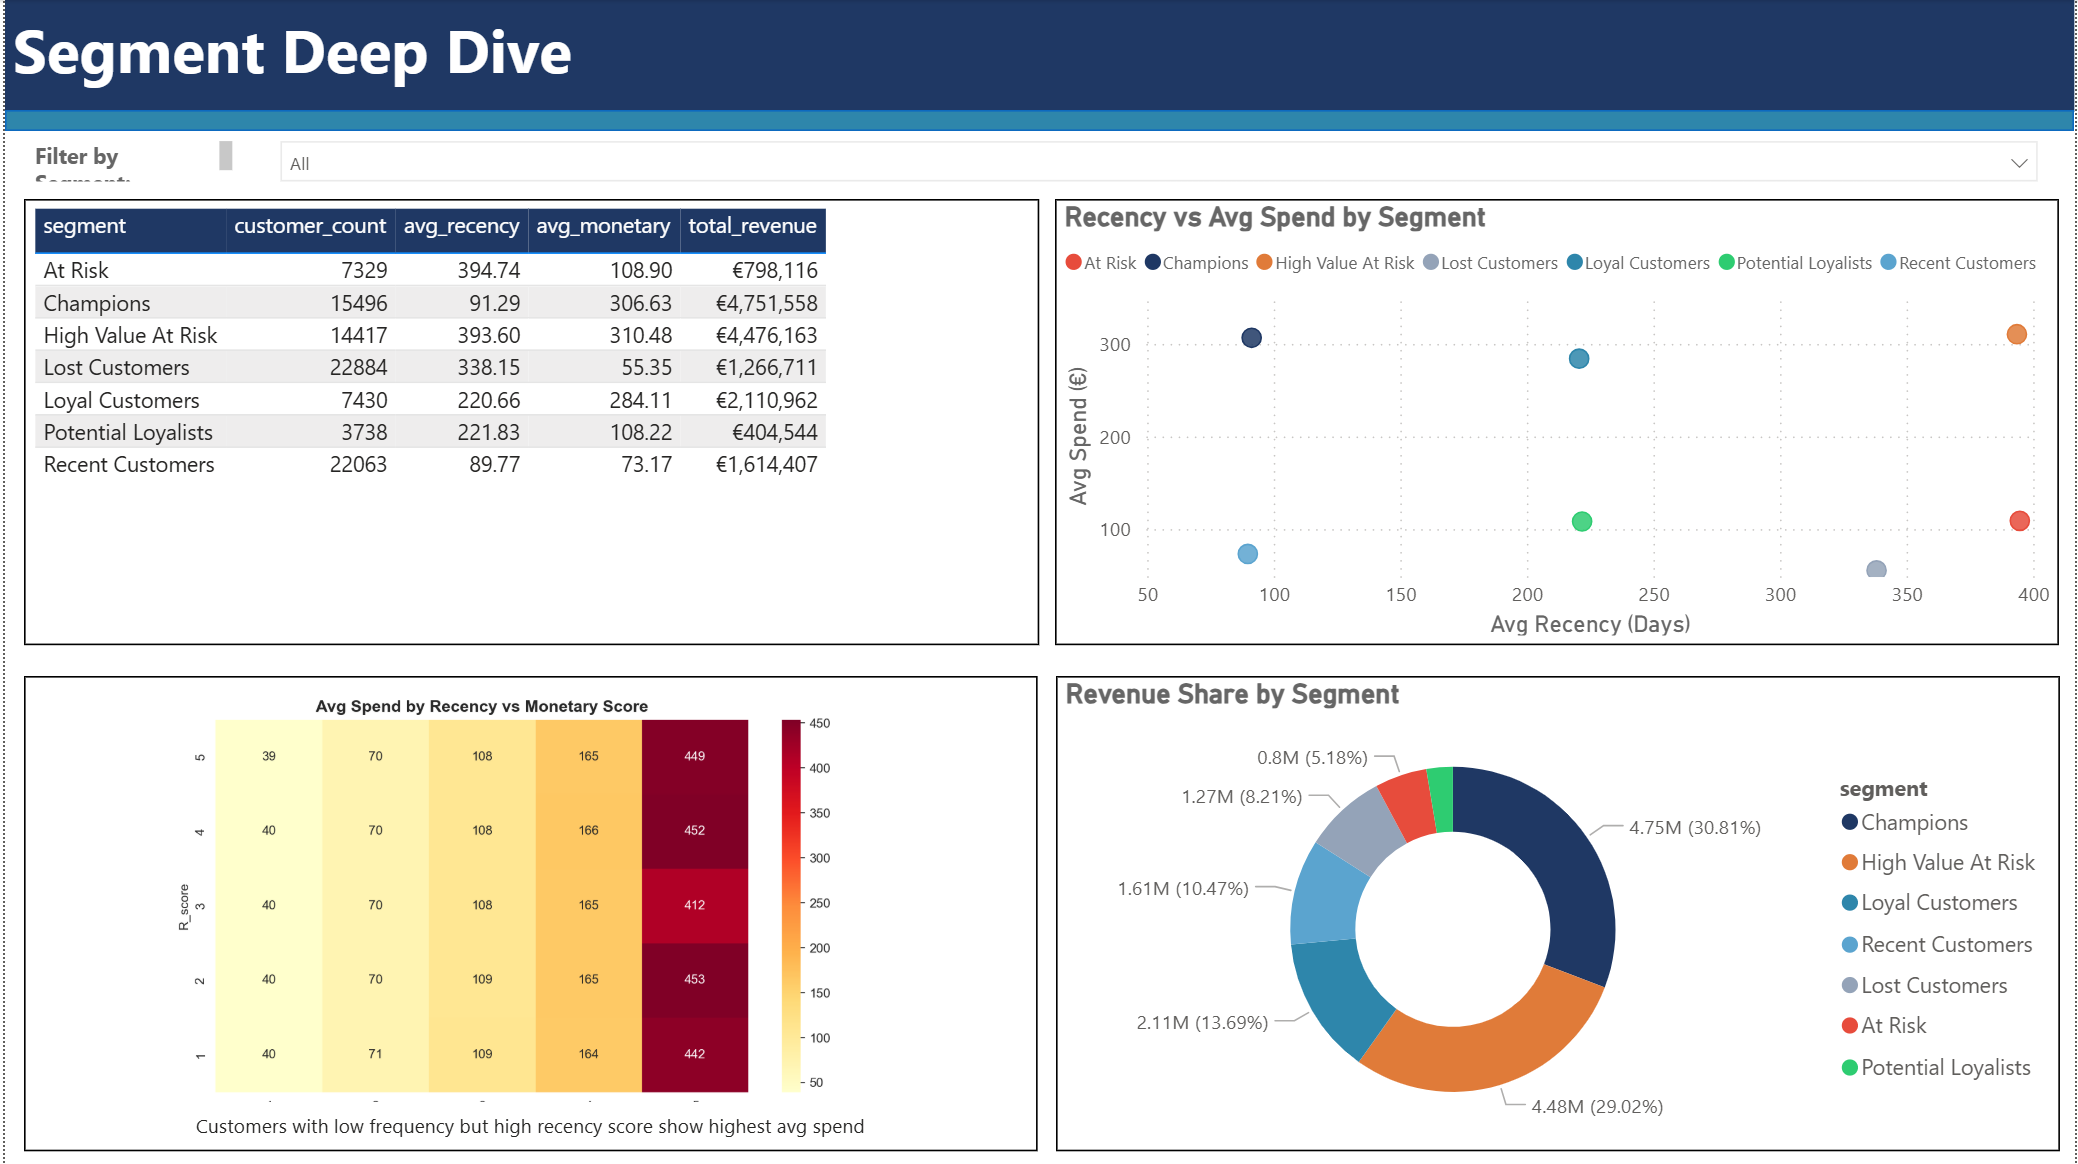

Layout of this report page (visuals, bound fields, positions):
{"tool":"powerbi","page":{"name":"Segment Deep Dive","canvas":[1280,720],"ordinal":1},"visuals":[{"type":"tableEx","fields":{"Values":["segment_summary.segment","segment_summary.customer_count","segment_summary.avg_recency","segment_summary.avg_monetary","segment_summary.total_revenue"]},"box":[11.8,123.1,628.5,276.5],"z":0},{"type":"scatterChart","title":"Recency vs Avg Spend by Segment","fields":{"Y":["segment_summary.avg_monetary"],"Series":["segment_summary.segment"],"Size":["CountNonNull(segment_summary.customer_count)"],"X":["segment_summary.avg_recency"]},"box":[649.5,123.1,621,276.5],"z":1000},{"type":"image","box":[11.8,418.1,626.6,294.4],"z":2000},{"type":"textbox","box":[45.8,681.6,558.6,26.6],"z":3000},{"type":"donutChart","title":"Revenue Share by Segment","fields":{"Y":["Sum(segment_summary.total_revenue)"],"Category":["segment_summary.segment"]},"box":[650.1,418.1,621,294.4],"z":4000},{"type":"slicer","title":"Filter by Segment","fields":{"Values":["rfm_segments_final.segment"]},"box":[145.4,82.3,1125.2,35.3],"z":5000},{"type":"textbox","box":[0,0,1279.8,69.3],"z":6000},{"type":"shape","box":[0,68,1279.8,13],"z":7000},{"type":"textbox","box":[13.6,82.3,131.8,35.3],"z":8000}]}

Visuals, with their boxes in screenshot pixels (x1, y1, x2, y2), scaled from the page's 1280x720 canvas onto the 2078x1164 screenshot:
tableEx - segment_summary.segment x segment_summary.customer_count: 19/199/1039/646
"Recency vs Avg Spend by Segment" scatterChart: 1054/199/2063/646
image: 19/676/1036/1152
textbox: 74/1102/981/1145
"Revenue Share by Segment" donutChart: 1055/676/2064/1152
"Filter by Segment" slicer: 236/133/2063/190
textbox: 0/0/2077/112
shape: 0/110/2077/131
textbox: 22/133/236/190
